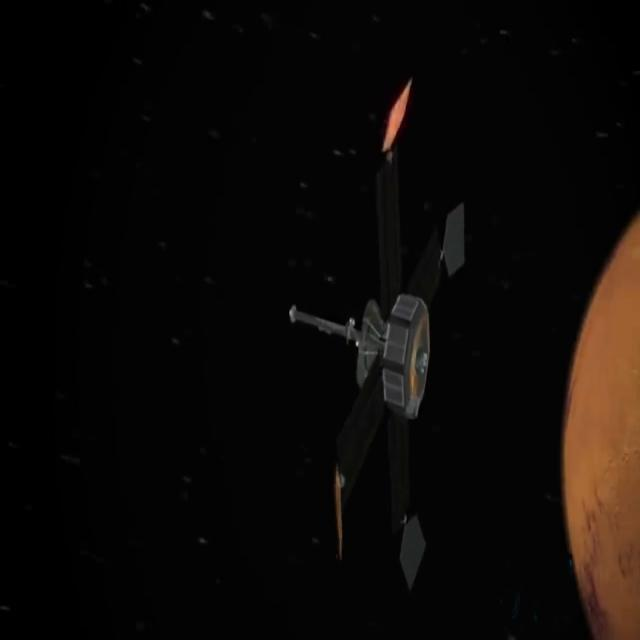sat: (276, 0, 488, 640)
